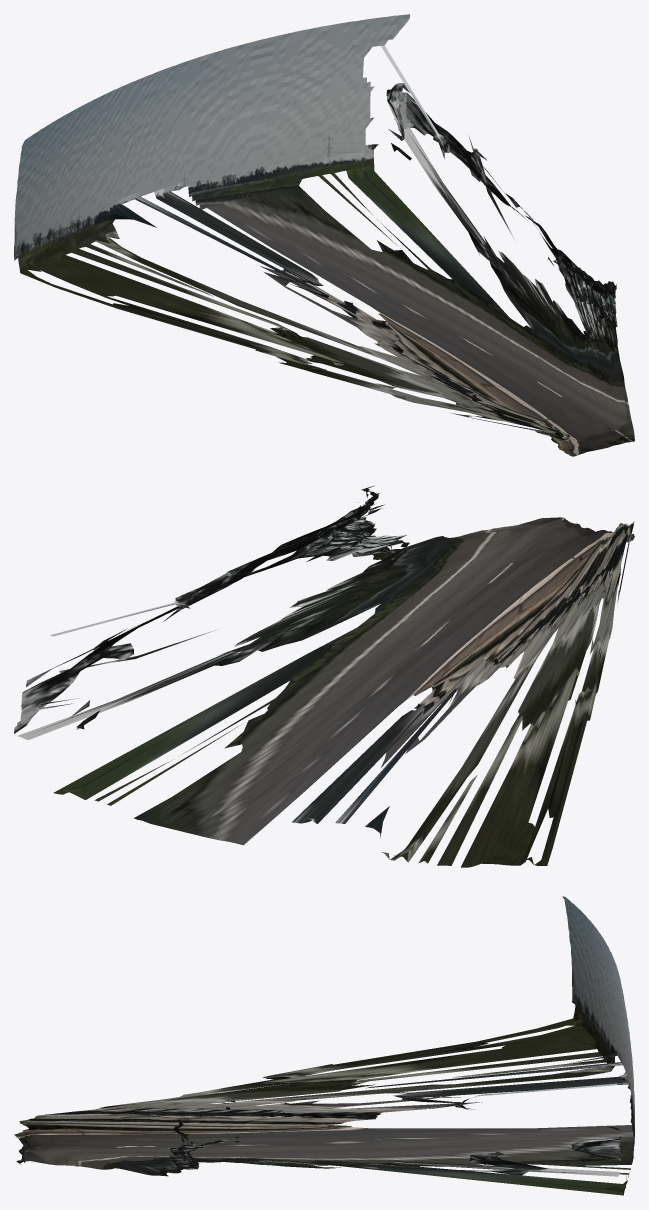
The picture shows the model from 3 angles, top to bottom: view 1: azimuth 30°, elevation 25°; view 2: azimuth 150°, elevation 25°; view 3: azimuth 270°, elevation 25°; orthographic projection. The views are drawn at different scales.
Parts seen in each view (by area): view 1: defaultobject; view 2: defaultobject; view 3: defaultobject.
Part boxes in pixels (bbox=[...]): defaultobject: bbox=[14, 14, 634, 456]; defaultobject: bbox=[14, 485, 634, 867]; defaultobject: bbox=[14, 896, 634, 1195].
Size of the model in its own units: 32.66 by 11.69 by 44.66.
Materials: 1 (1 with a texture image).
